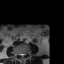CCS_normal: (21, 51, 23, 59)
LFS_stenosis: (24, 51, 26, 56)
LLS_normal: (23, 52, 24, 58)
RFS_stenosis: (18, 51, 19, 56)
RLS_stenosis: (19, 51, 21, 57)
